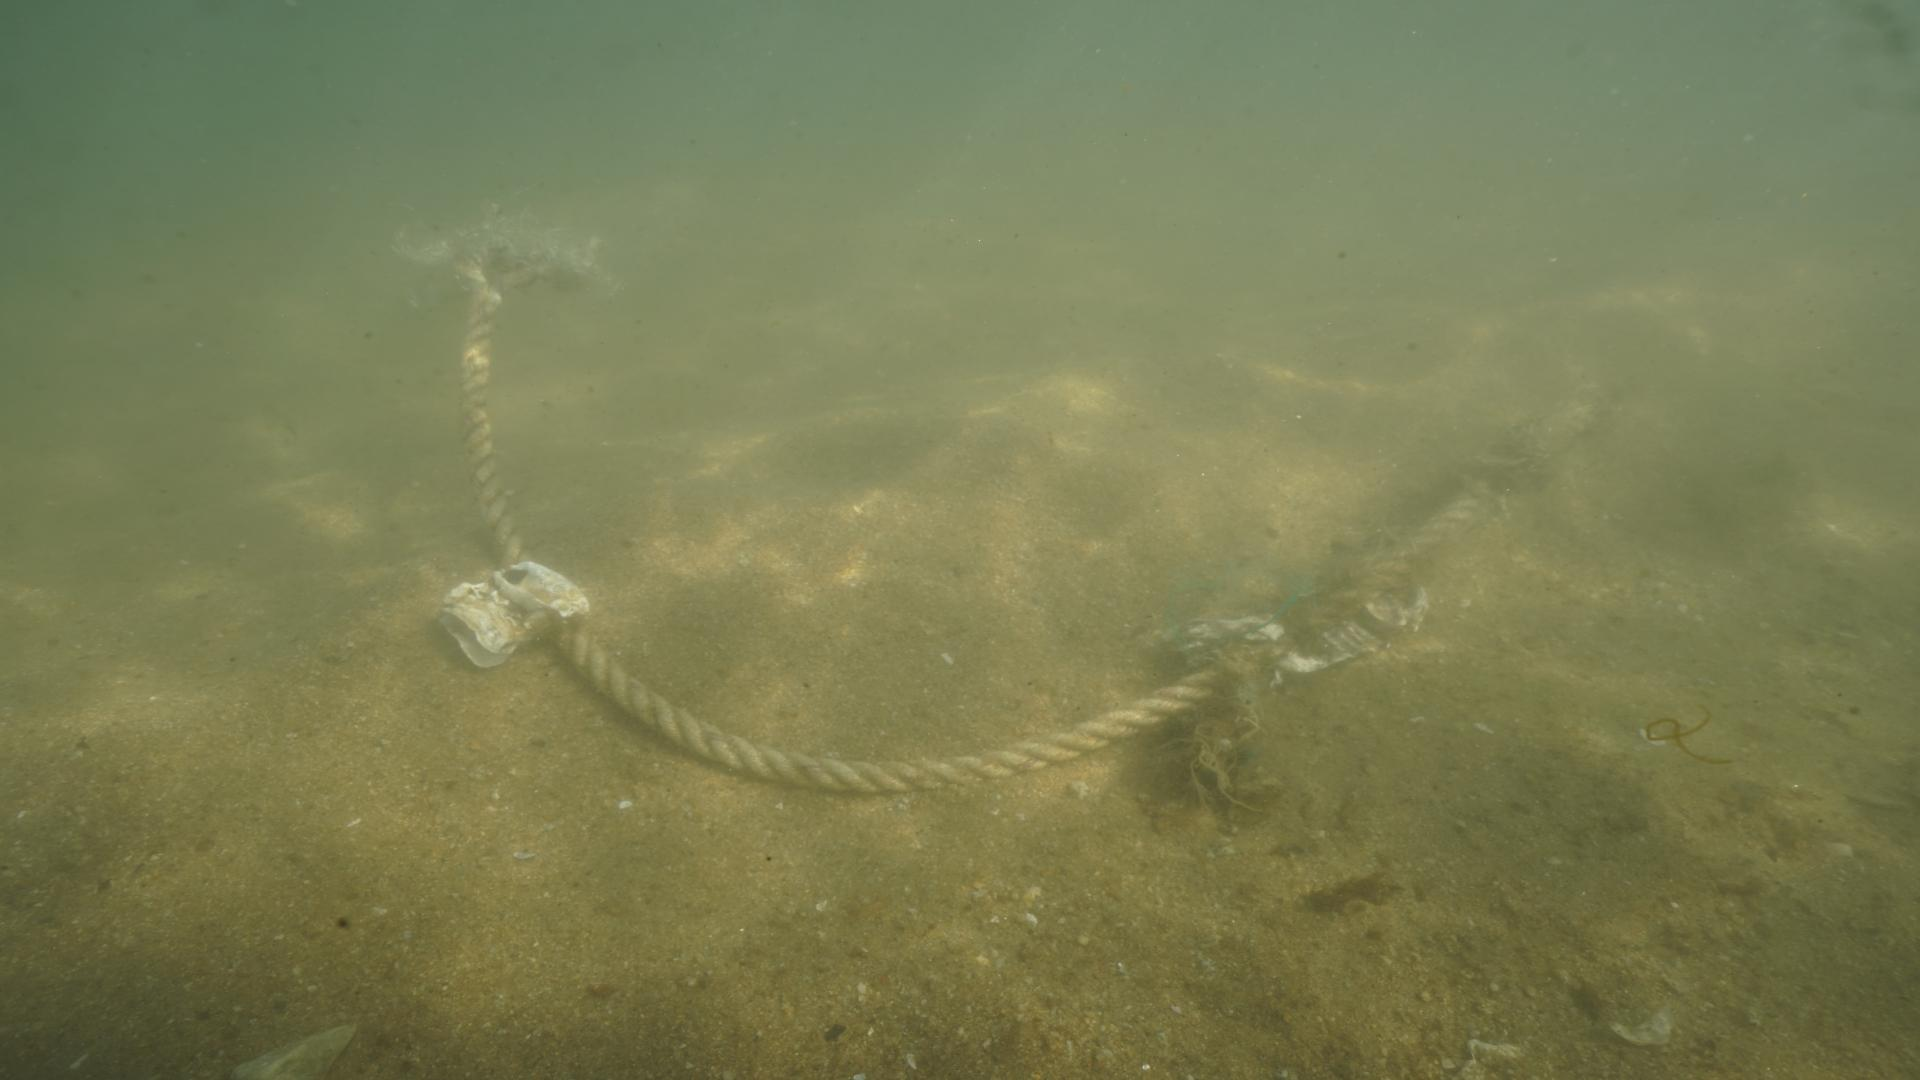rope: (458, 272, 1627, 798)
